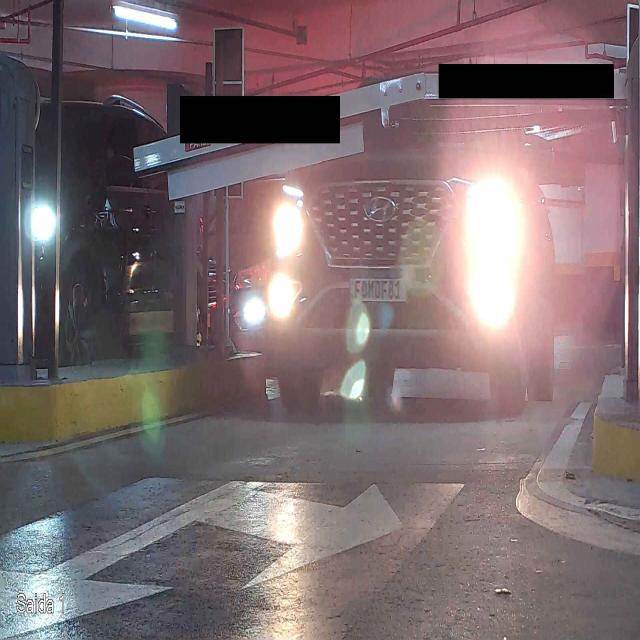mercosul_plate: (349, 270, 408, 303)
